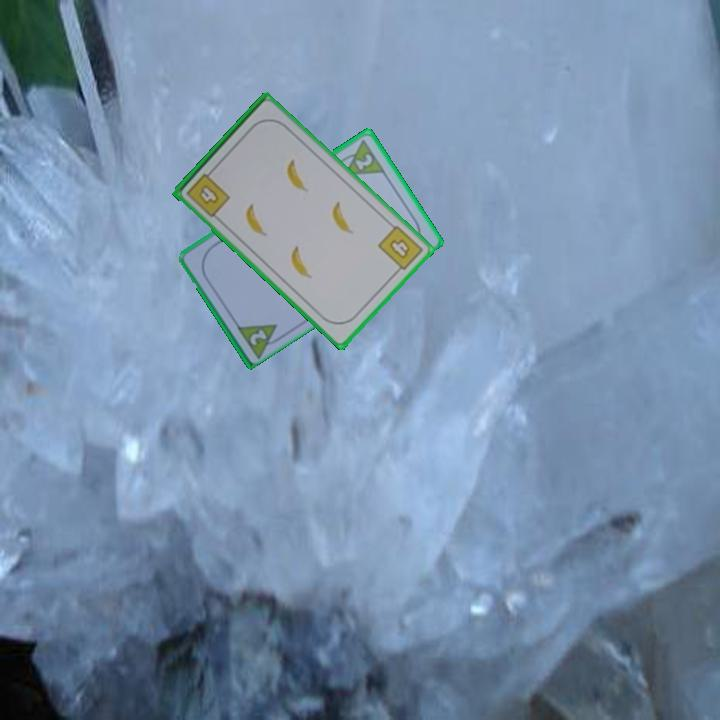2p: (351, 150, 376, 173), (246, 325, 270, 348)
4b: (374, 222, 426, 277), (182, 165, 233, 220)
